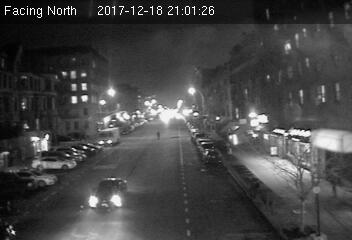car: (87, 176, 130, 211), (202, 148, 221, 165)
